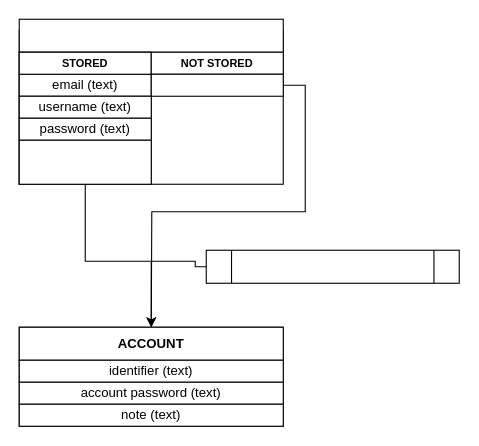
The diagram is 479 pixels wide and 446 high, and some of its shapes have lost their labels. Each missing label, with the centre of its shape:
"2x 256bit Rated Encryption (company secret + master password)" goes at (x=332, y=266).
"accounts (encrypted json text)" goes at (x=84, y=161).
"master password" goes at (x=216, y=84).
"USER" goes at (x=150, y=35).
